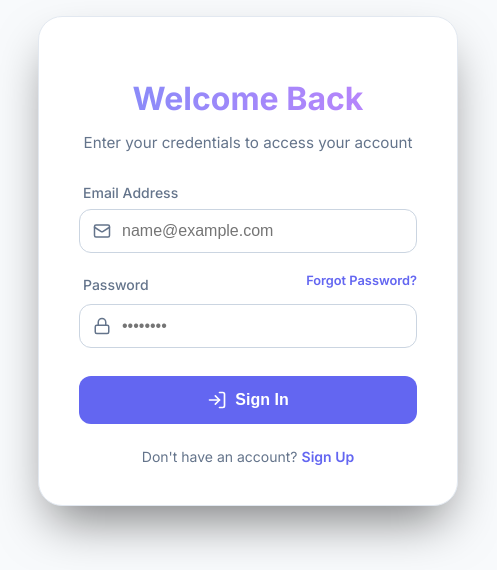
Test: Auth Component › 16. should show Forgot Password form when reset link is clicked
This screenshot has width=497, height=570.
Click the text "Forgot Password?" at x=362, y=280, box [306,273,417,288]
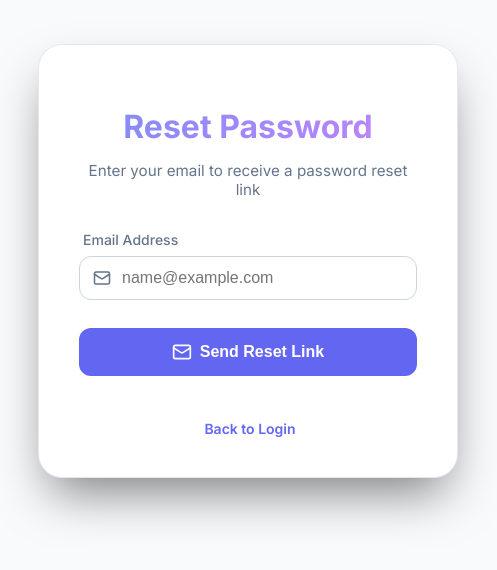
Check: the heading "Reset Password" is shown, box [79,107,417,146]
Check: the text "Send Reset Link" is shown, box [200,343,324,361]
